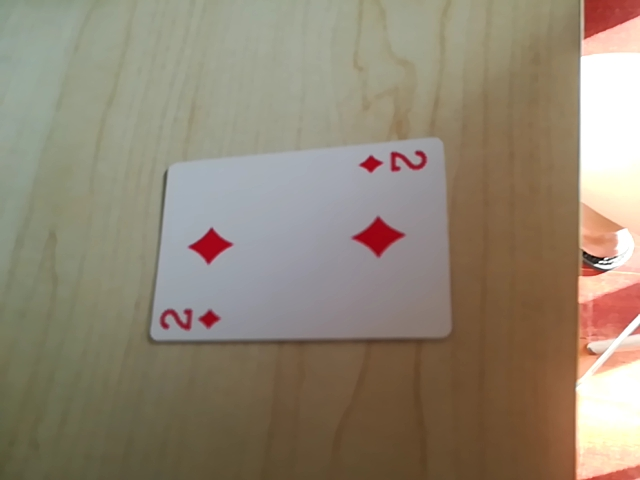fk 2: (357, 143, 435, 181), (156, 303, 227, 335)
